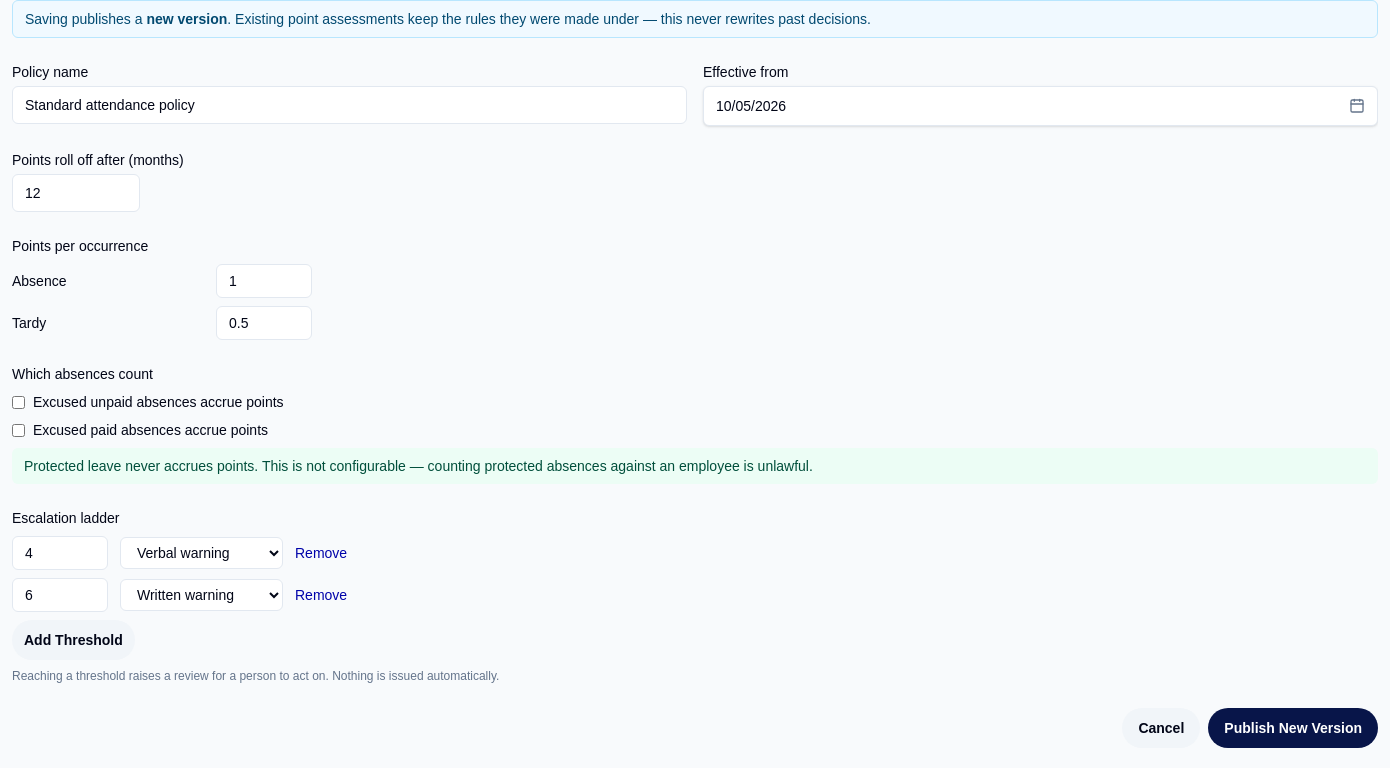
Test: MhdAttendancePolicyEditor numeric fields › asks for a point value when a rule is cleared, on the row it belongs to
Clear the 2nd number field at (264, 281), box 216,264 -> 312,298
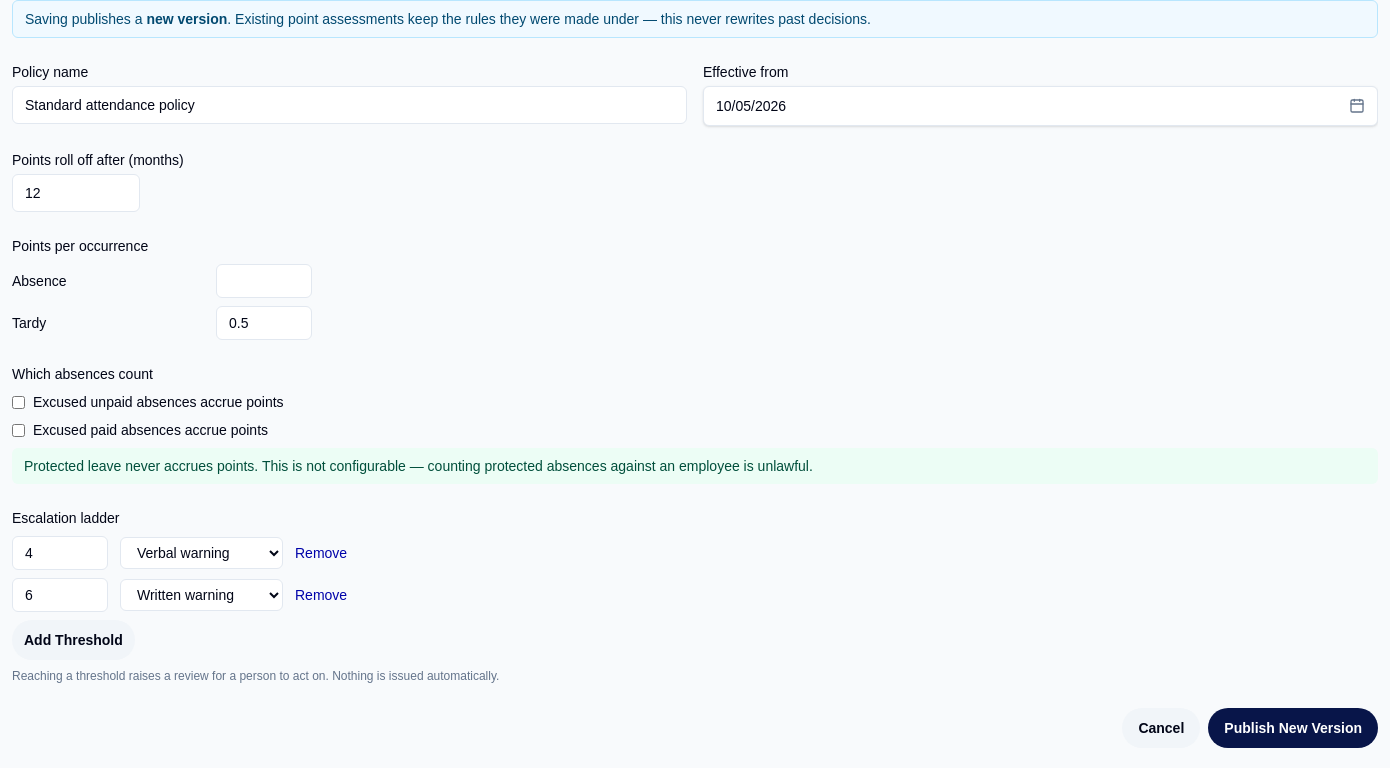
Click the button "Publish new version" at (1293, 728), box 1208,708 -> 1378,748
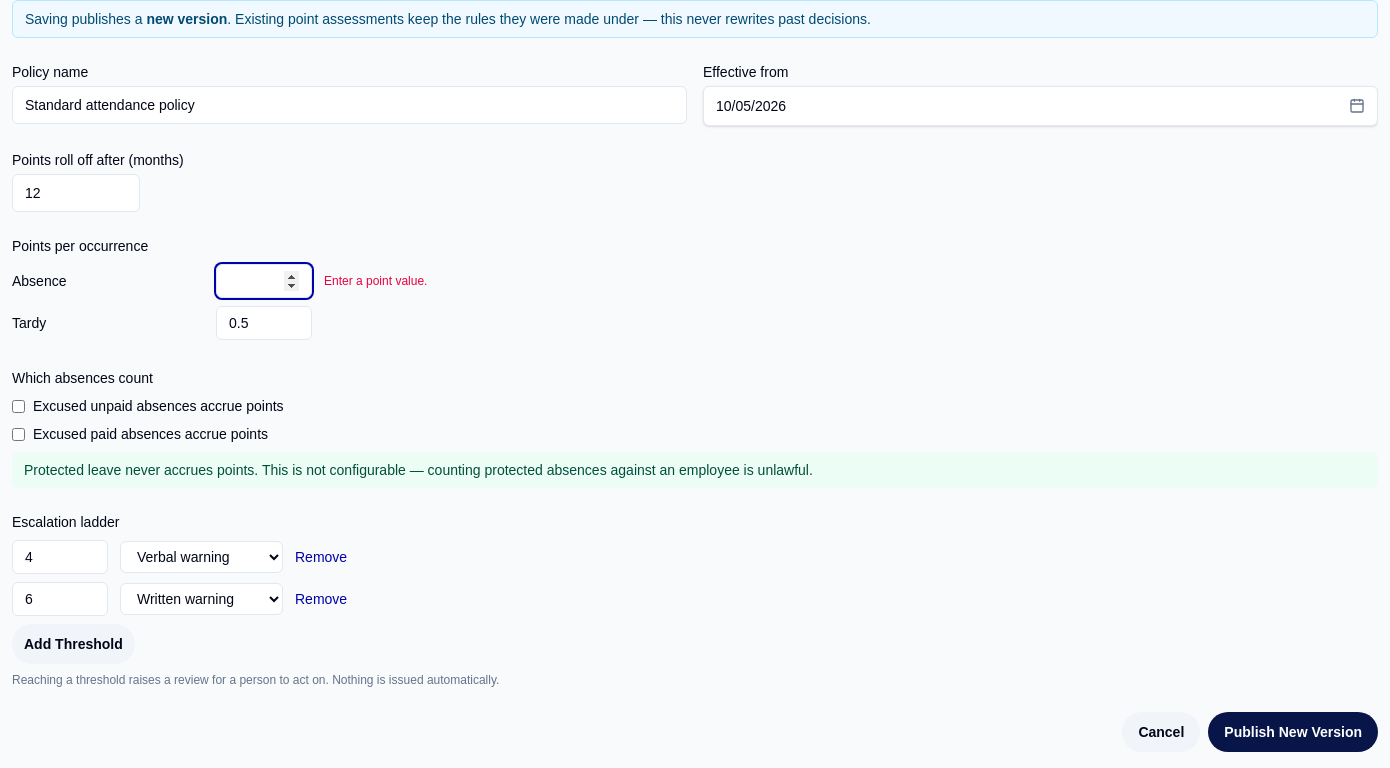
Expected: the text "Enter a point value." is shown, 324,273 -> 427,289
